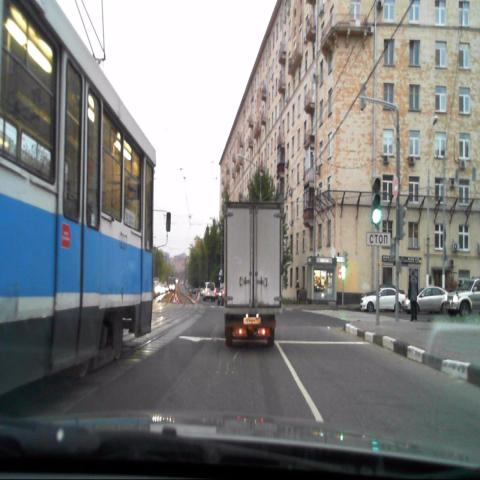6_16: (367, 232, 391, 246)
